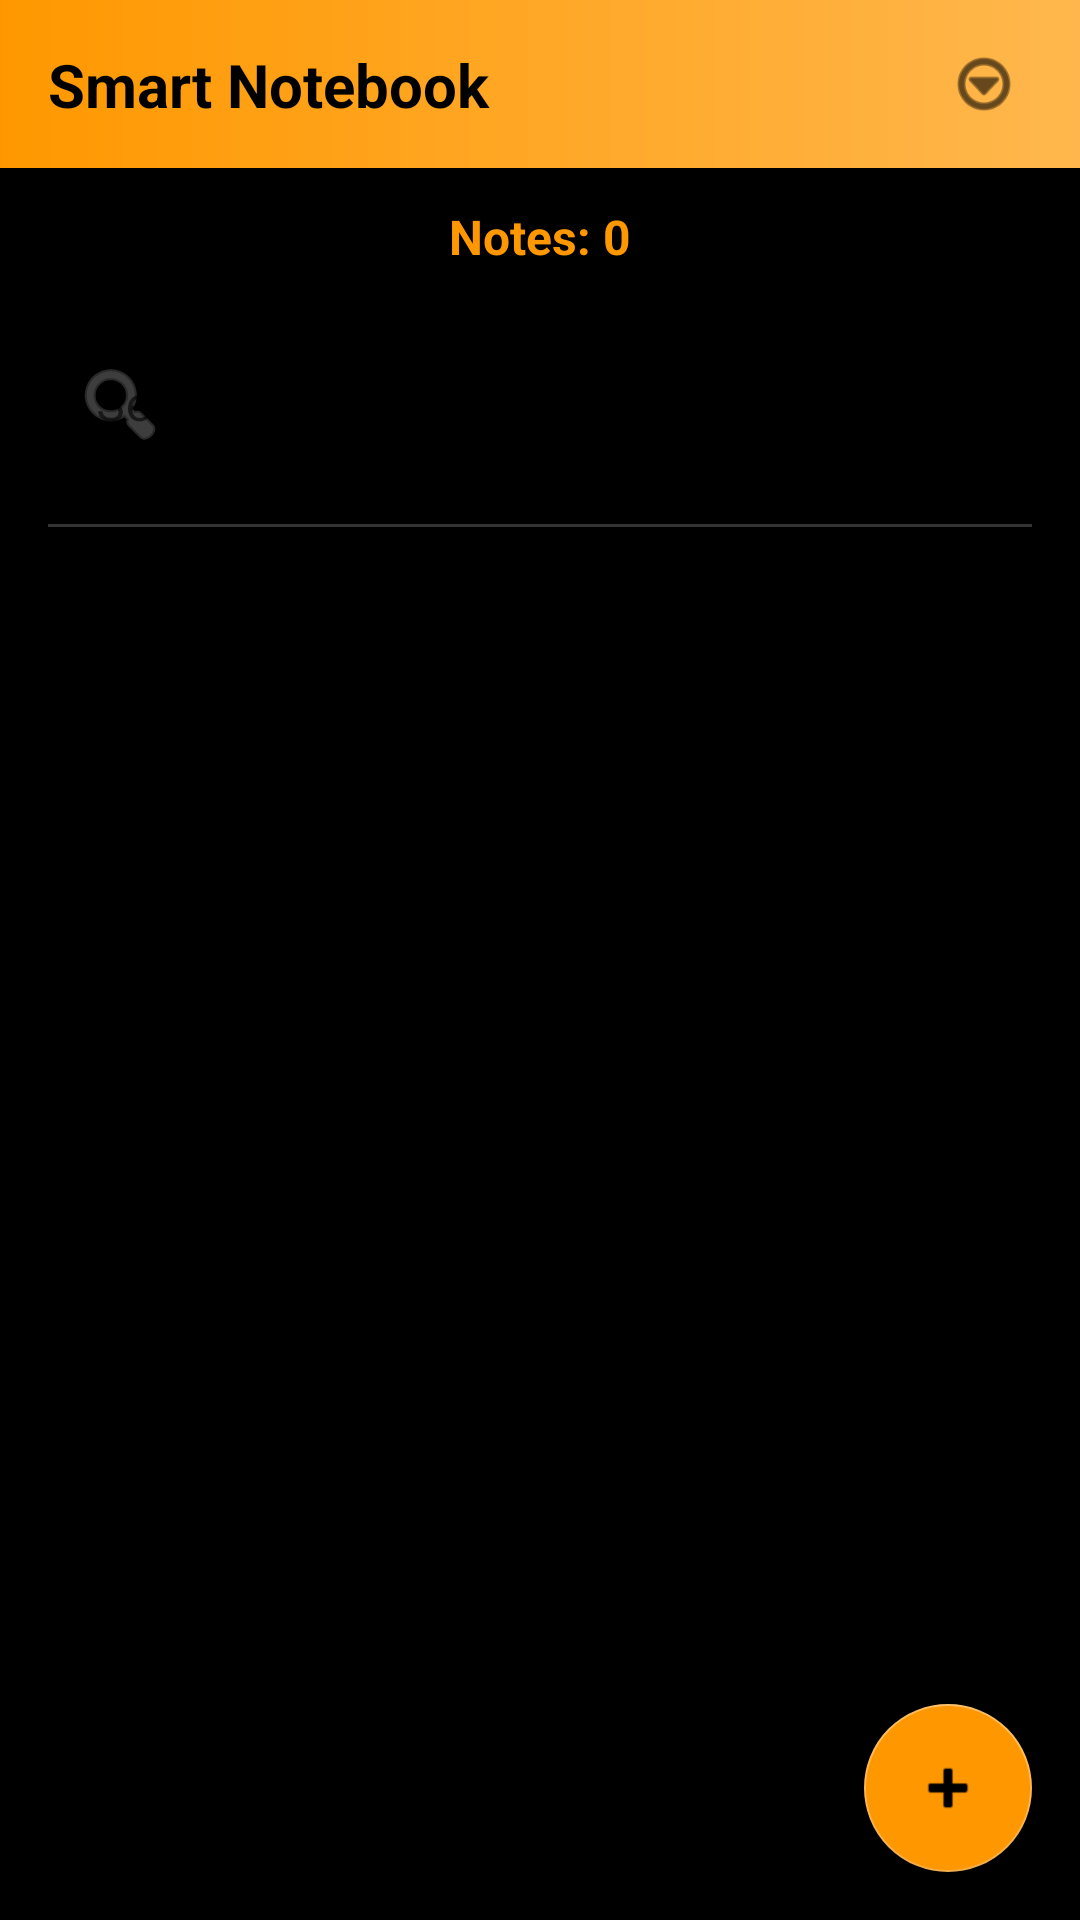

Where icons sit on this 1080px x 1920px app screen, as (x1, y1, x2, y2):
Create note: (864, 1704, 1032, 1872)
Menu: (957, 57, 1011, 111)
